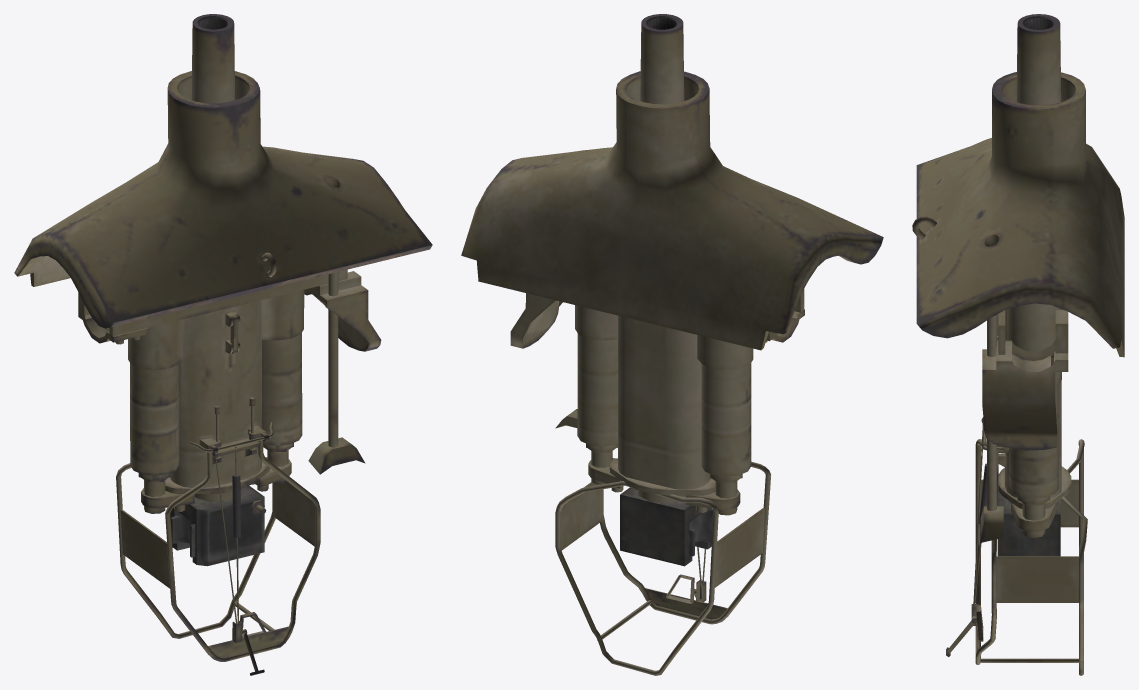
File: Gun_04.glb
The picture shows the model from 3 angles, left to right: view 1: azimuth 30°, elevation 25°; view 2: azimuth 150°, elevation 25°; view 3: azimuth 270°, elevation 25°; orthographic projection.
Parts seen in each view (by area): view 1: set_0_group_0; view 2: set_0_group_0; view 3: set_0_group_0.
Boxes of the visible parts, x1,y1,x2,y2 form: set_0_group_0: (14, 14, 432, 675); set_0_group_0: (461, 14, 883, 675); set_0_group_0: (912, 14, 1124, 675).
Bounding box in the file's own units: 0.945 × 1.78 × 0.5343.
Materials: 1 (1 with a texture image).
